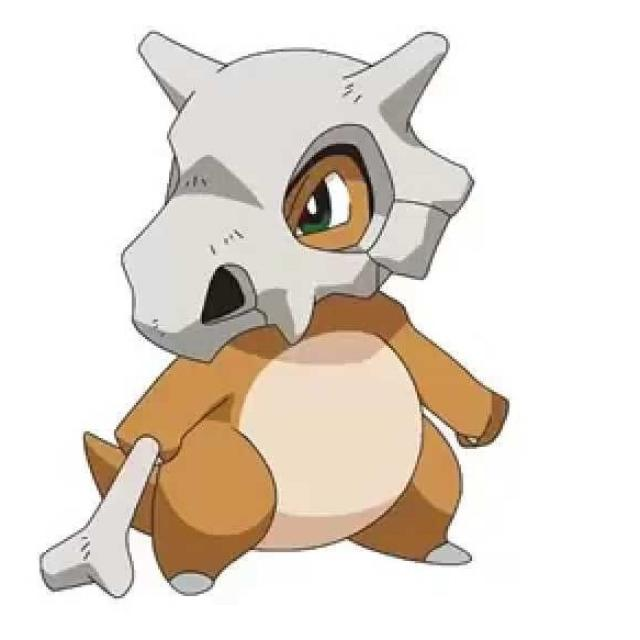Cubone: (8, 23, 530, 619)
